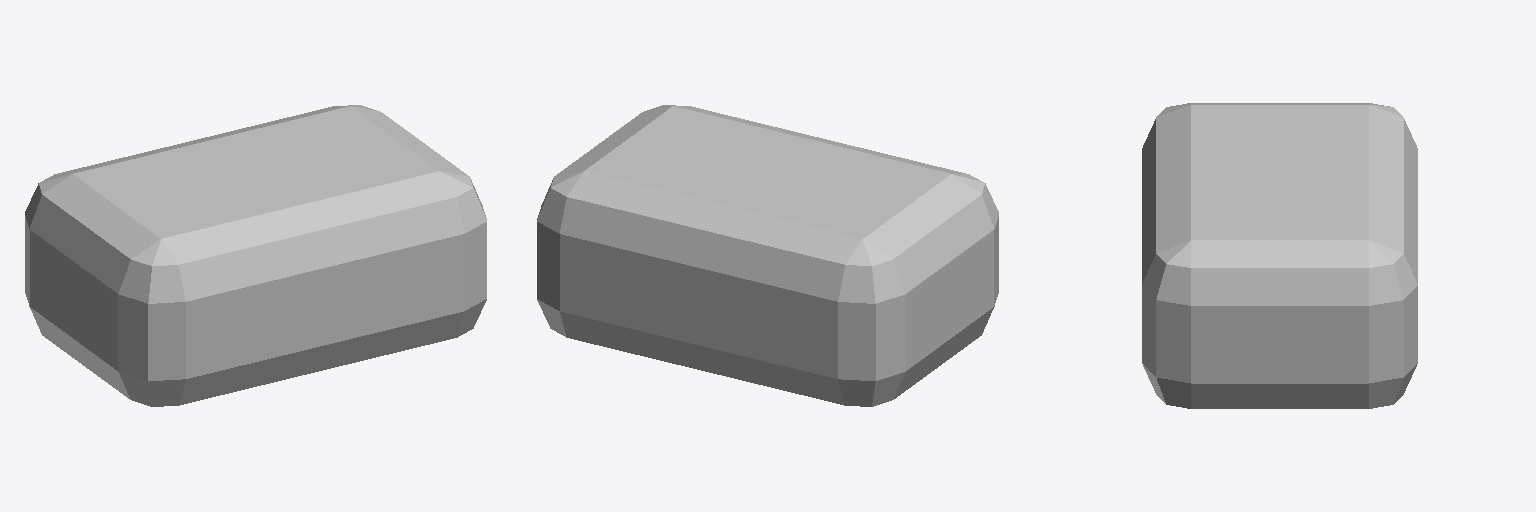
Rendered from medkit.obj.
3 views of the same model, side by side, from view 1: azimuth 30°, elevation 25°; view 2: azimuth 150°, elevation 25°; view 3: azimuth 270°, elevation 25° (orthographic).
Visible parts, largest first — view 1: <MS3DRoot>; view 2: <MS3DRoot>; view 3: <MS3DRoot>.
Boxes of the visible parts, x1=… form: <MS3DRoot>: x1=25, y1=105, x2=486, y2=406; <MS3DRoot>: x1=537, y1=105, x2=998, y2=406; <MS3DRoot>: x1=1142, y1=103, x2=1417, y2=408.
Size of the model in its own units: 138 by 60.52 by 90.77.